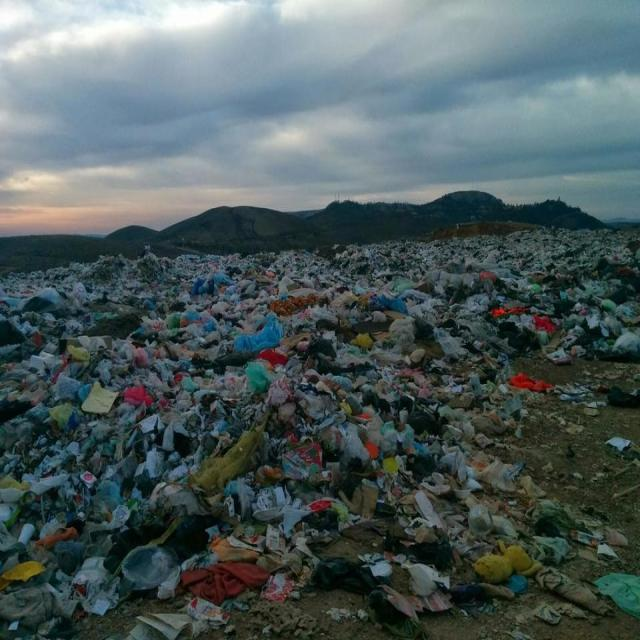trash: (37, 269, 576, 599), (344, 237, 617, 273)
